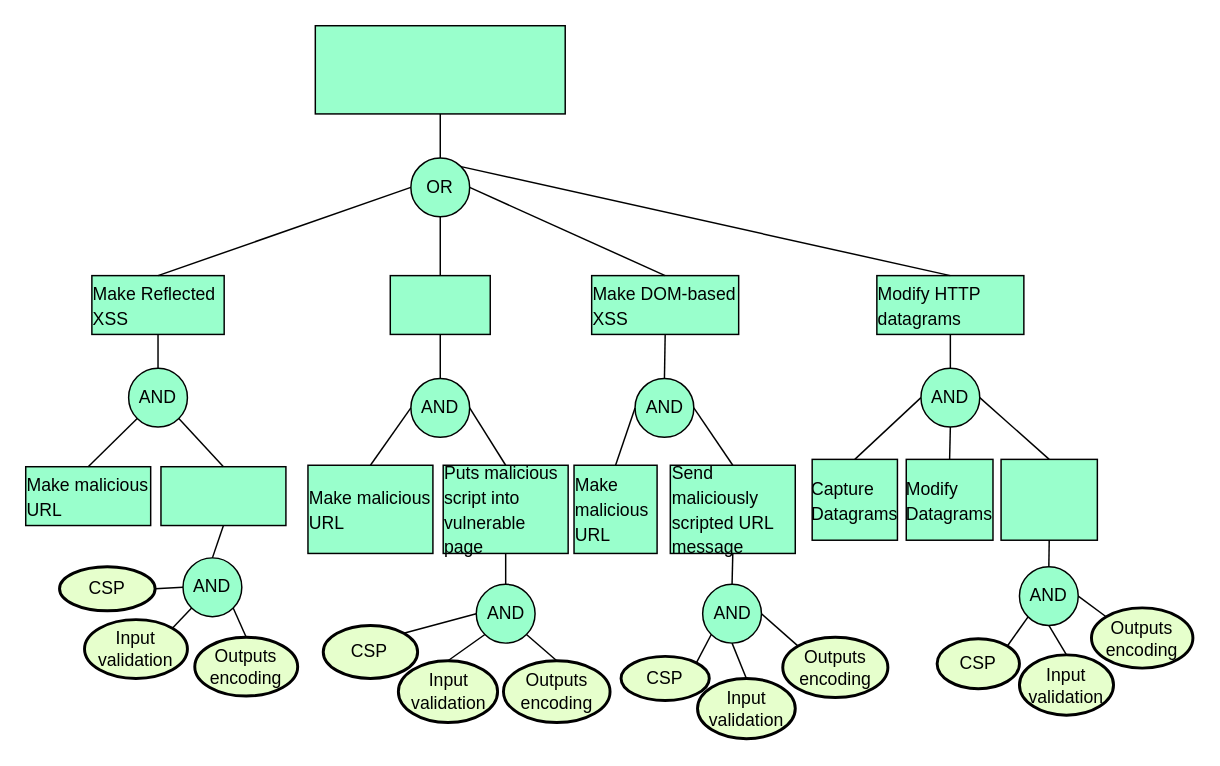
Image size: 1220x766. Some labels were removed from this diagram. The shapes that lost their labels are listed below. From the top down, each one's centre as x and y in pixels, then its label:
At (x=439, y=69): "Write alert msg in a victim's browser".
At (x=439, y=304): "Make Stored XSS".
At (x=222, y=495): "Send malicious URL".
At (x=1048, y=499): "Send Datagrams".
